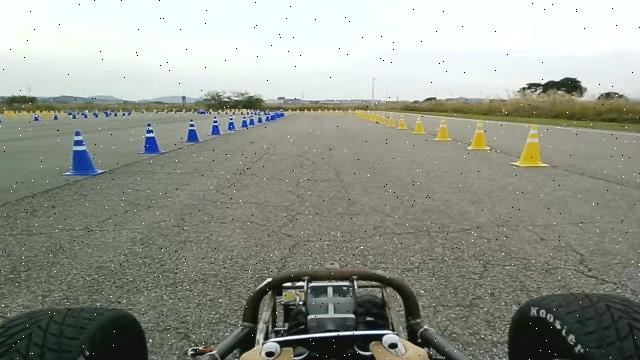blue cone: (60, 130, 106, 176), (137, 122, 166, 155), (181, 118, 204, 143), (208, 116, 221, 136), (226, 116, 237, 131), (240, 115, 248, 128), (248, 116, 255, 127), (256, 116, 263, 124)
yellow cone: (510, 124, 550, 168), (466, 119, 489, 150), (433, 118, 453, 141), (411, 115, 427, 134), (395, 114, 408, 129), (386, 114, 396, 127), (378, 114, 387, 124), (358, 110, 367, 120), (369, 112, 377, 122)
